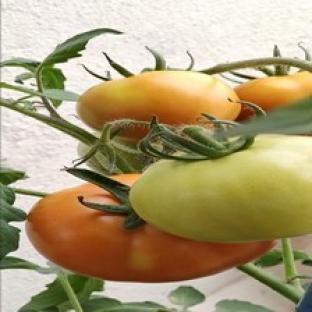Tomato: (27, 183, 275, 282), (130, 136, 311, 242), (77, 70, 240, 129), (234, 72, 311, 111), (77, 136, 150, 175)
